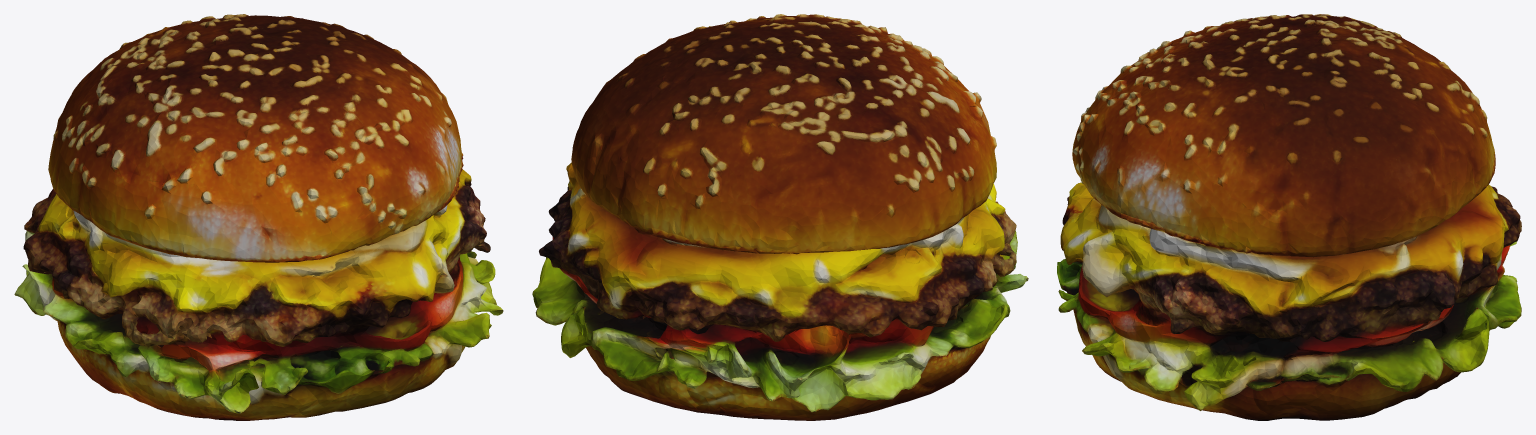
File: classico.raw.glb
The picture shows the model from 3 angles, left to right: view 1: azimuth 30°, elevation 25°; view 2: azimuth 150°, elevation 25°; view 3: azimuth 270°, elevation 25°; orthographic projection.
Parts seen in each view (by area): view 1: world; view 2: world; view 3: world.
Part boxes in pixels (x1,y1,x2,y2): world: (14, 14, 503, 420); world: (532, 14, 1028, 420); world: (1057, 14, 1521, 420).
Bounding box in the file's own units: 0.9969 × 0.6938 × 0.9961.
Materials: 1 (1 with a texture image).
